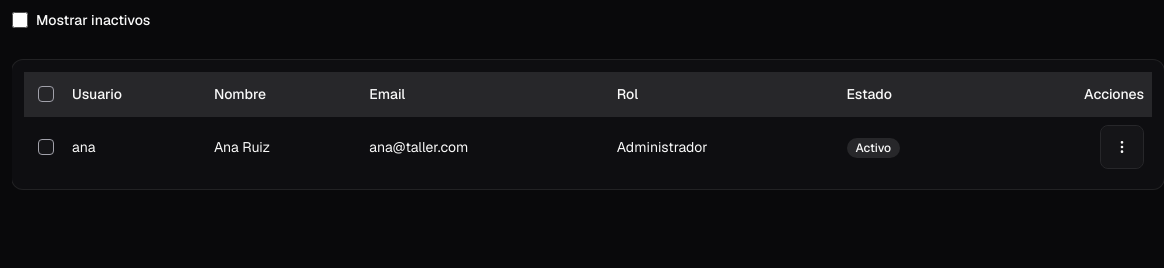
Test: UsersTable — which rows are visible › reveals them when 'Mostrar inactivos' is switched on
Click the checkbox labelled "Mostrar inactivos".
click(20, 20)  # box [12, 12, 28, 28]
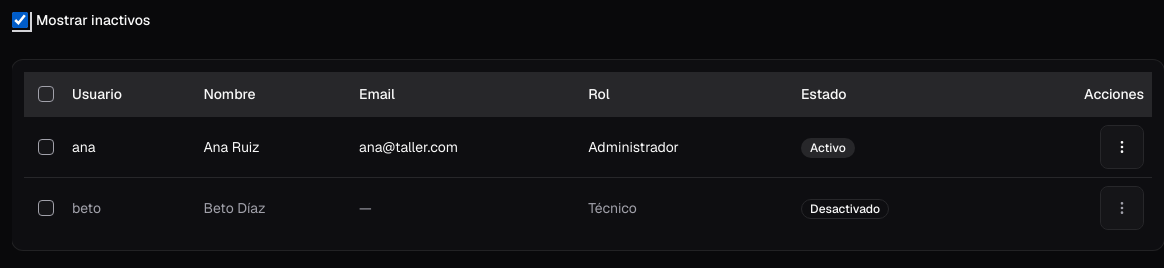
Now the text "beto" is shown, box [64, 178, 195, 238]
